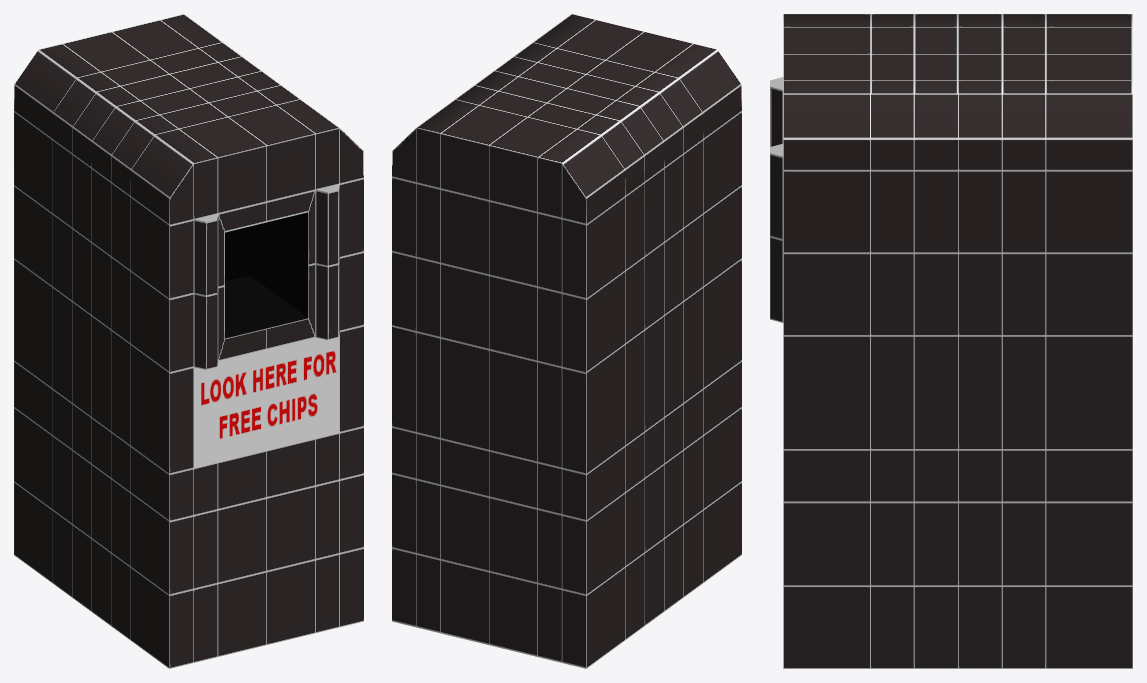
Rendered from machine.fbx.
3 renders of one model, left to right at view 1: azimuth 30°, elevation 25°; view 2: azimuth 150°, elevation 25°; view 3: azimuth 270°, elevation 25°, orthographic. The views are drawn at different scales.
Visible parts, largest first — view 1: pCube1; view 2: pCube1; view 3: pCube1.
Part boxes in pixels (<box>): pCube1: <box>14,14,363,668</box>; pCube1: <box>392,14,741,668</box>; pCube1: <box>770,14,1132,668</box>.
Size of the model in its own units: 2.5 by 6.13 by 3.59.
Materials: 1 (1 with a texture image).
